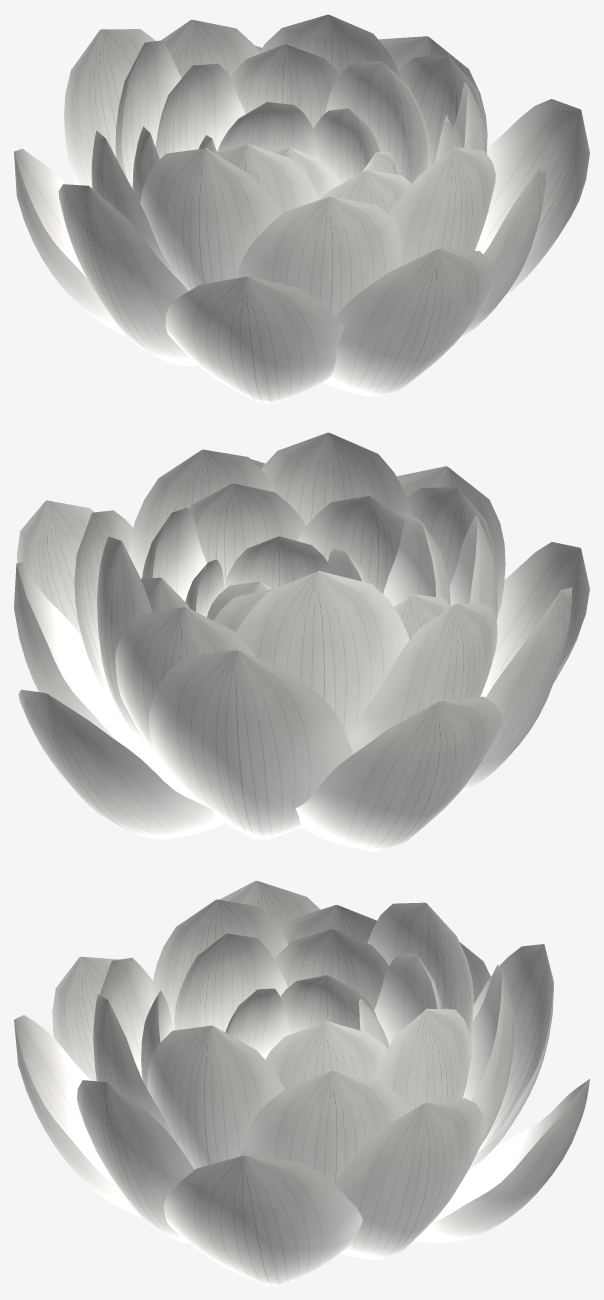
The model's file is lotus.glb.
The picture shows the model from 3 angles, top to bottom: view 1: azimuth 30°, elevation 25°; view 2: azimuth 150°, elevation 25°; view 3: azimuth 270°, elevation 25°; orthographic projection. The views are drawn at different scales.
Visible parts, largest first — view 1: petal.008, petal, petal.016, petal.017, petal.007, petal.002, petal.009, petal.005, petal.019, petal.006, petal.021, petal.020 (+16 smaller); view 2: petal.005, petal.006, petal.014, petal.004, petal.015, petal.003, petal.009, petal.013, petal.008, petal.007, petal.018, petal.010 (+16 smaller); view 3: petal.002, petal.003, petal.010, petal.011, petal.004, petal.001, petal, petal.005, petal.012, petal.023, petal.014, petal.016 (+14 smaller).
Boxes of the visible parts, x1,y1,x2,y2 form: petal.008: (165,276,344,403); petal: (323,248,495,397); petal.016: (140,148,281,290); petal.017: (237,196,400,316); petal.007: (58,184,198,366); petal.002: (475,99,589,294); petal.009: (388,147,495,267); petal.005: (64,29,155,187); petal.019: (325,61,429,183); petal.006: (14,148,127,336); petal.021: (155,63,245,158); petal.020: (230,44,339,128); petal.005: (149,650,353,839); petal.006: (296,696,502,851); petal.014: (235,571,409,739); petal.004: (18,689,224,838); petal.015: (348,603,497,754); petal.003: (14,562,177,785); petal.009: (261,432,411,525); petal.013: (115,607,256,752); petal.008: (480,542,589,696); petal.007: (459,587,571,792); petal.018: (189,483,306,584); petal.010: (128,449,279,578); petal.002: (164,1155,362,1285); petal.003: (333,1098,484,1260); petal.010: (147,1025,284,1169); petal.011: (240,1070,409,1182); petal.004: (413,1079,589,1242); petal.001: (77,1080,194,1243); petal: (14,1015,141,1217); petal.005: (468,944,553,1171); petal.012: (373,1008,471,1111); petal.023: (174,933,287,1031); petal.014: (367,902,473,1039); petal.016: (150,899,288,1028).
Bounding box in the file's own units: 1.25 × 0.6747 × 1.28.
6 materials, 1 textured.
